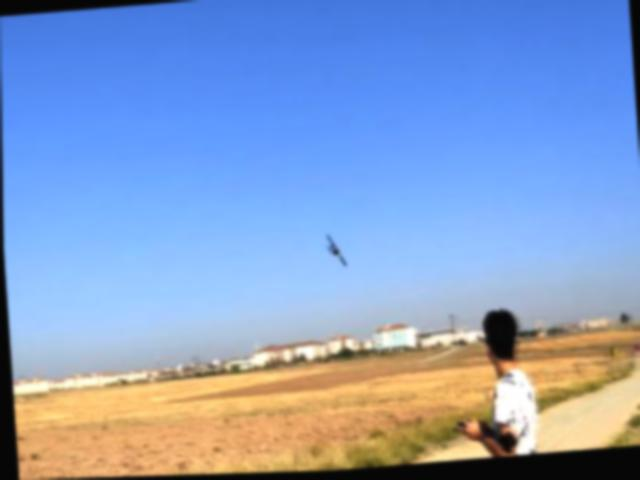uav: (323, 230, 349, 274)
